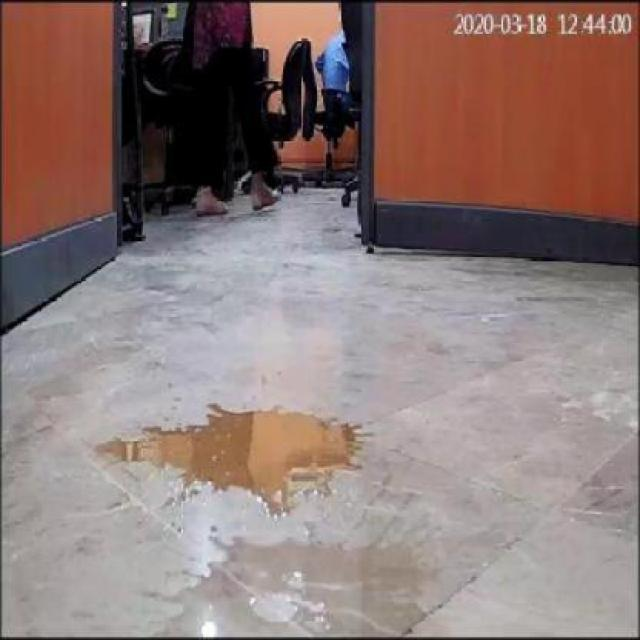spillage: (98, 404, 355, 514)
